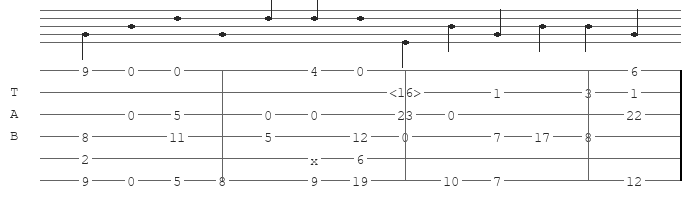0: (127, 108, 139, 121), (127, 174, 139, 187), (127, 64, 139, 77), (173, 64, 185, 77), (264, 108, 276, 121), (310, 108, 322, 121), (356, 64, 368, 77), (401, 130, 413, 143), (447, 108, 459, 121)
1: (493, 86, 505, 99), (630, 86, 642, 99)
10: (443, 174, 463, 187)
11: (169, 130, 189, 143)
12: (352, 130, 372, 143), (626, 174, 646, 187)
17: (534, 130, 554, 143)
19: (352, 174, 372, 187)
2: (81, 152, 93, 165)
22: (626, 108, 646, 121)
23: (397, 108, 417, 121)
3: (584, 86, 596, 99)
4: (310, 64, 322, 77)
5: (173, 108, 185, 121), (173, 174, 185, 187), (264, 130, 276, 143)
6: (356, 152, 368, 165), (630, 64, 642, 77)
7: (493, 130, 505, 143), (493, 174, 505, 187)
8: (81, 130, 93, 143), (218, 174, 230, 187), (584, 130, 596, 143)
9: (81, 64, 93, 77), (81, 174, 93, 187), (310, 174, 322, 187)
harmonic: (389, 85, 425, 99)
x: (310, 153, 322, 163)
